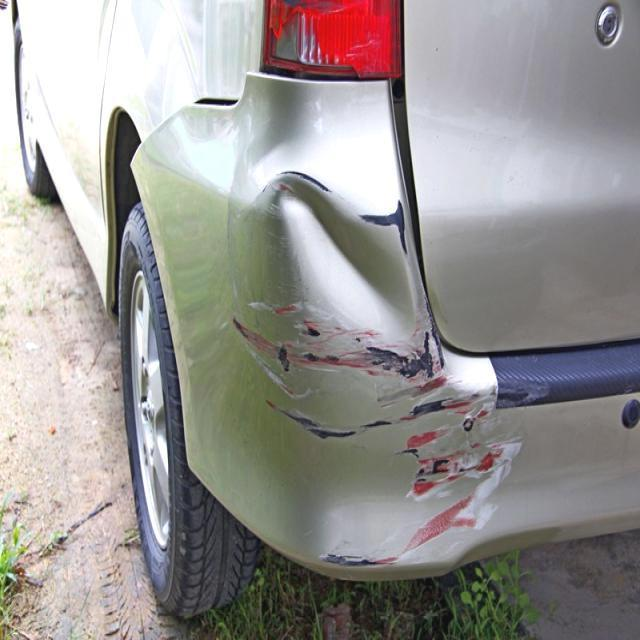minor: (226, 75, 504, 441)
moderate: (405, 435, 520, 515), (395, 499, 491, 568), (325, 556, 380, 571)
